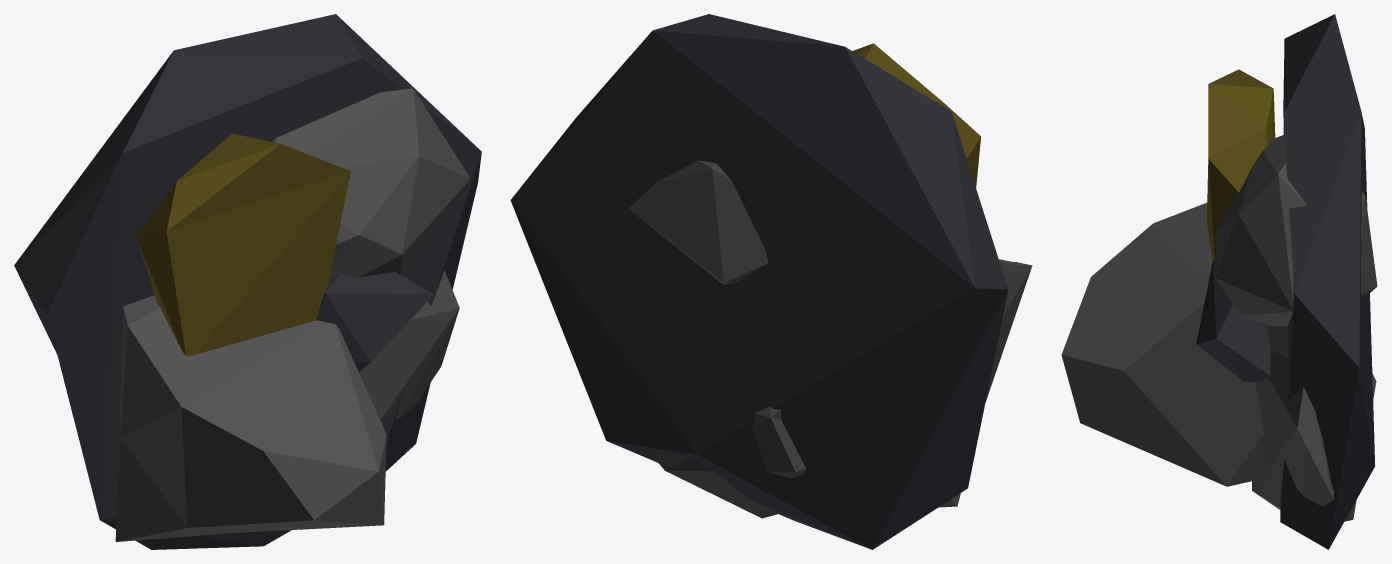
3 views of the same model, side by side, from view 1: azimuth 30°, elevation 25°; view 2: azimuth 150°, elevation 25°; view 3: azimuth 270°, elevation 25° (orthographic). The views are drawn at different scales.
Visible parts, largest first — view 1: forest17_1; view 2: forest17_1; view 3: forest17_1.
Boxes of the visible parts, left/top/right/bottom form: forest17_1: left=14, top=14, right=481, bottom=549; forest17_1: left=510, top=14, right=1032, bottom=549; forest17_1: left=1061, top=14, right=1377, bottom=549.
Bounding box in the file's own units: 144 × 90.43 × 149.
